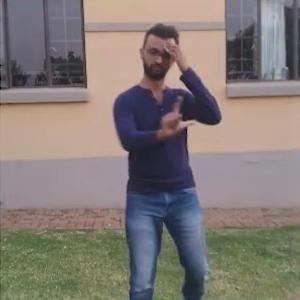land_hand: (157, 90, 201, 140)
